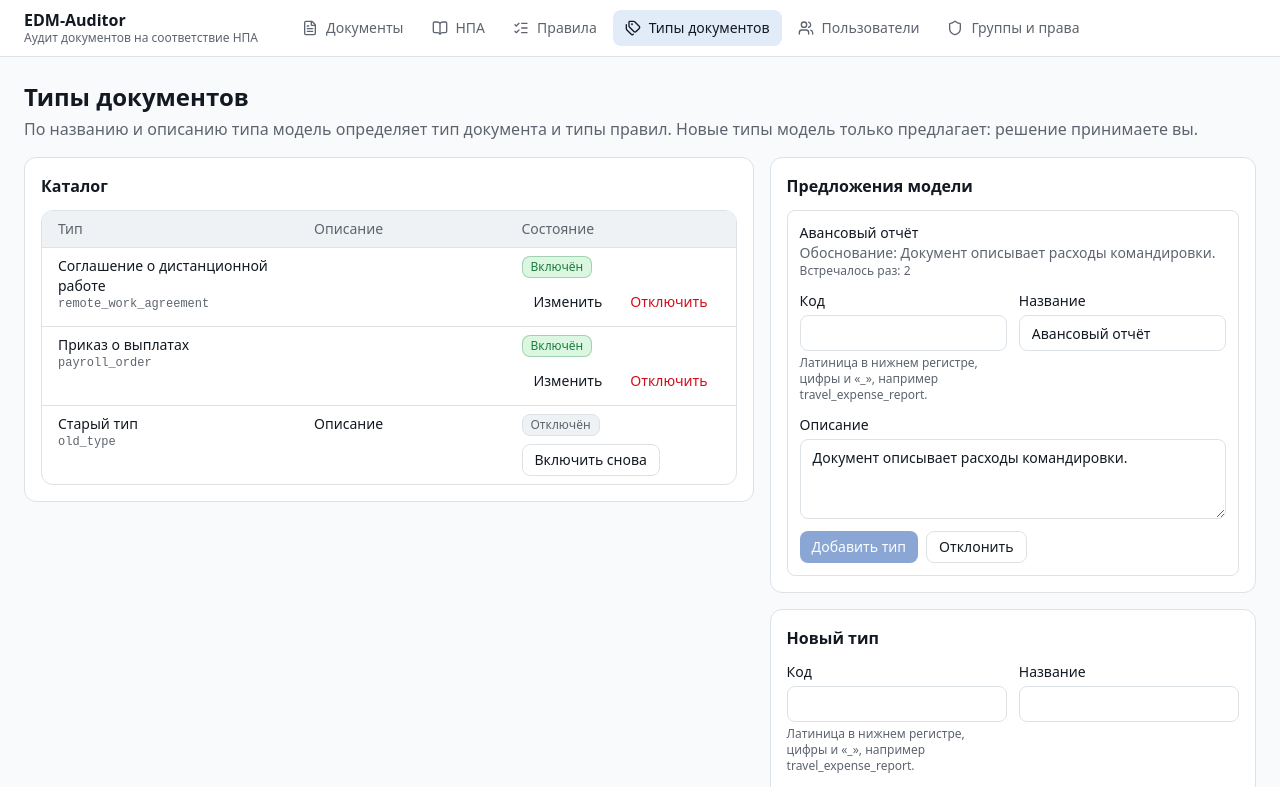
document types › explains why a type in use cannot be deactivated
The image size is (1280, 787).
Step 1. Click the button "Отключить" in the row of "payroll_order" → [669, 381], box [618,365,720,397]
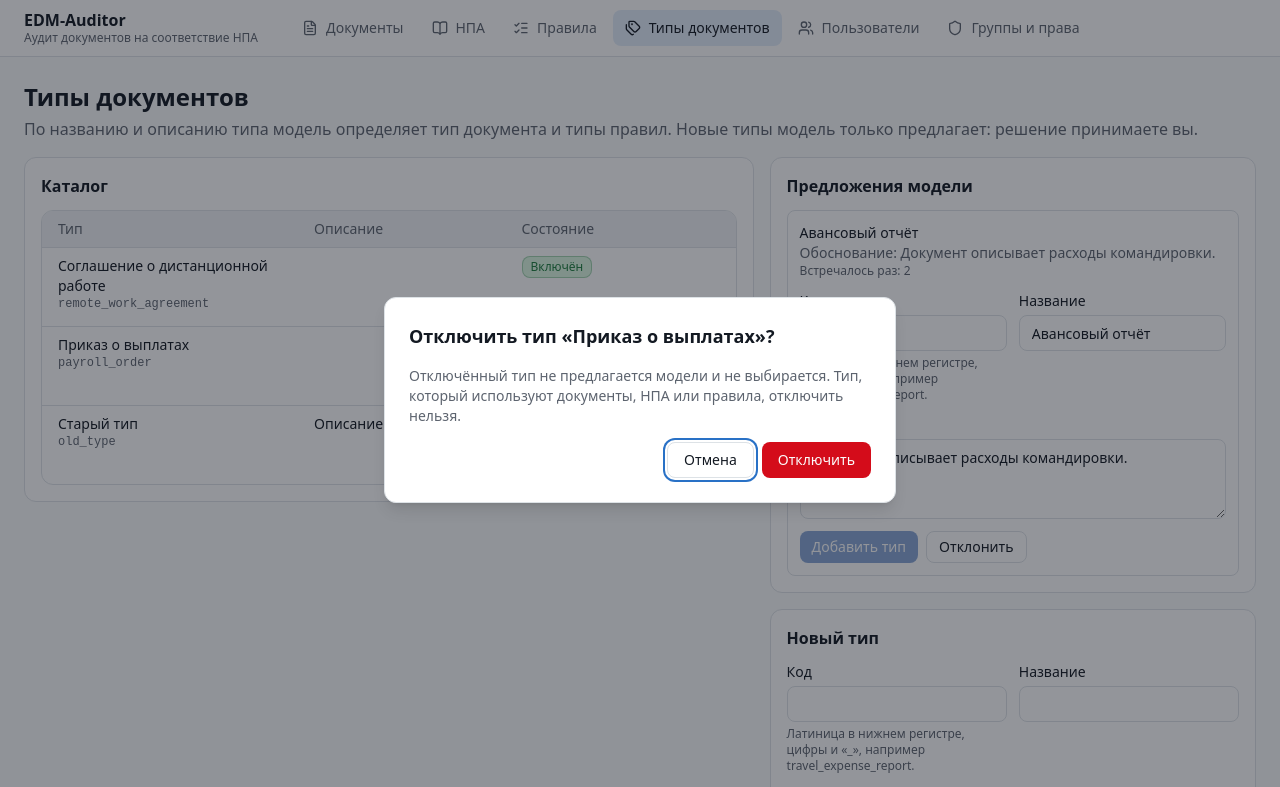
Step 2. Click the button "Отключить" → [816, 460], box [762,442,871,478]
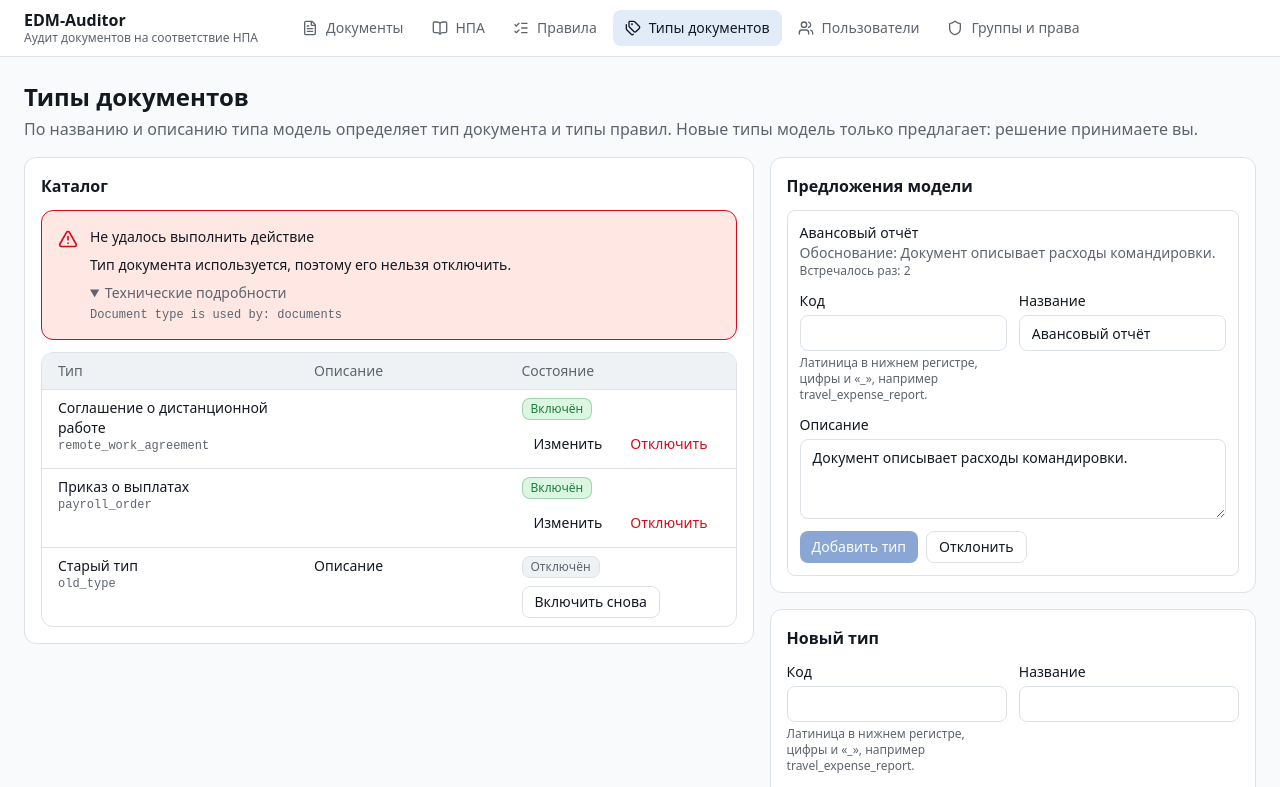
Now the message shows "Тип документа используется", box [90,255,511,274]
Now the message shows "Document type is used by: documents", box [90,308,342,322]
